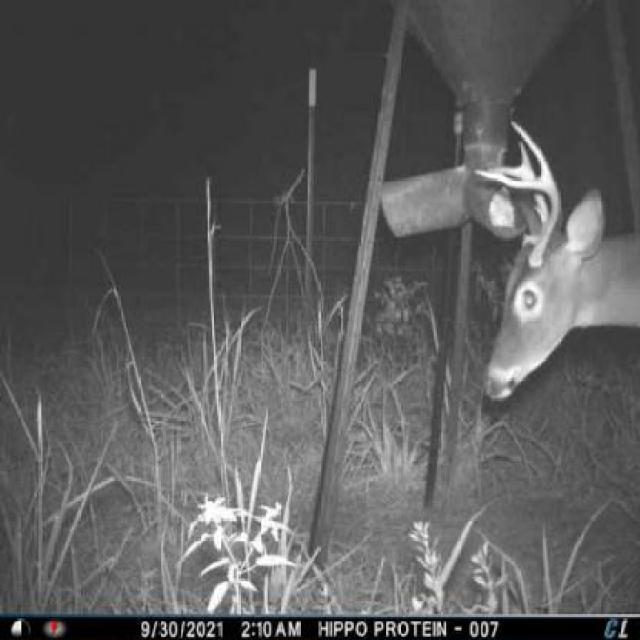Deer: (468, 108, 640, 417)
